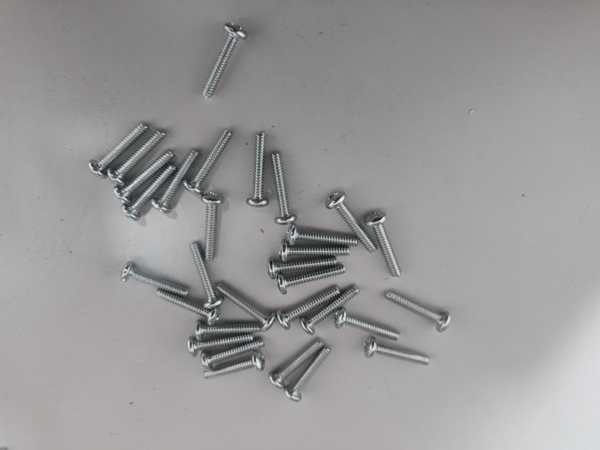longscrew: (197, 23, 245, 103), (186, 126, 234, 198), (324, 190, 376, 256), (148, 153, 201, 215), (124, 160, 177, 222), (117, 149, 173, 207), (110, 129, 166, 187), (90, 122, 146, 180), (296, 284, 358, 336), (117, 261, 192, 301), (384, 291, 457, 332), (211, 282, 276, 328), (273, 286, 340, 330), (366, 209, 406, 277), (281, 352, 331, 403), (269, 343, 319, 394), (332, 309, 399, 347), (363, 336, 431, 371), (273, 145, 301, 227), (244, 128, 271, 211), (156, 292, 217, 327), (275, 266, 347, 295), (190, 243, 223, 306), (282, 224, 360, 250), (275, 234, 353, 260), (263, 253, 340, 279), (200, 340, 263, 370), (187, 334, 249, 364), (200, 354, 263, 381), (198, 189, 220, 263), (187, 322, 265, 337)
